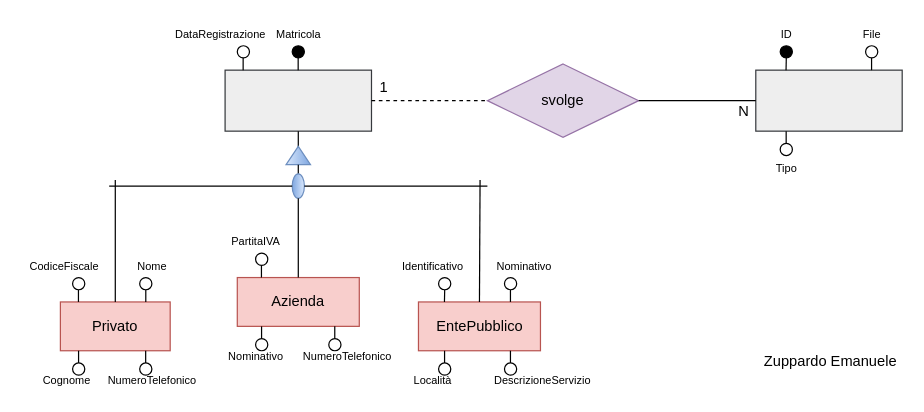
This 924x412 diagram has some shape labels left out. Each missing label, with the centre of its shape:
"Attività" goes at point 828,100.
"Cliente" goes at point 297,100.
